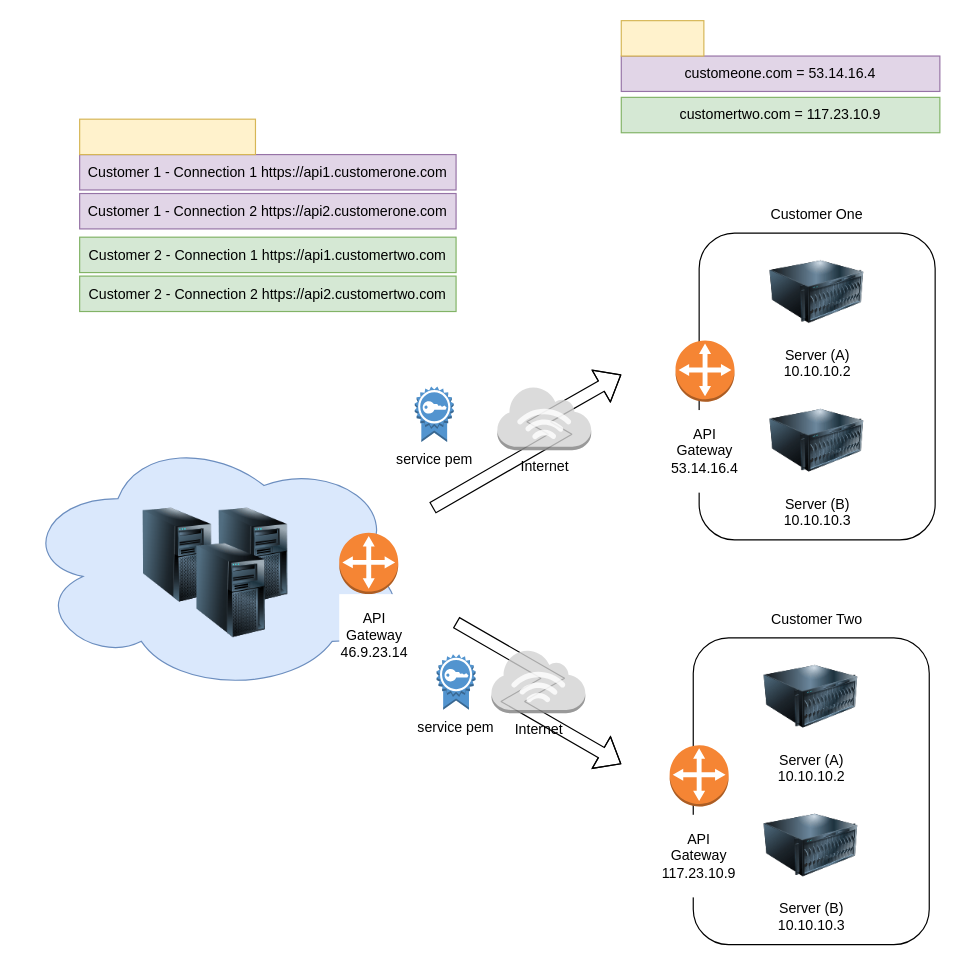
This 961x965 diagram has some shape labels left out. Each missing label, with the centre of its shape:
"Application Configuration" belongs at (x=166, y=136).
"DNS" belongs at (x=662, y=37).
